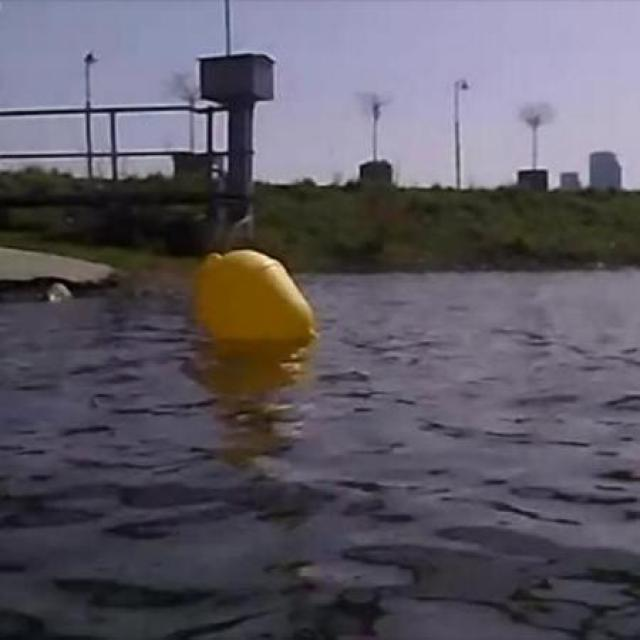buoy: (196, 246, 317, 347)
